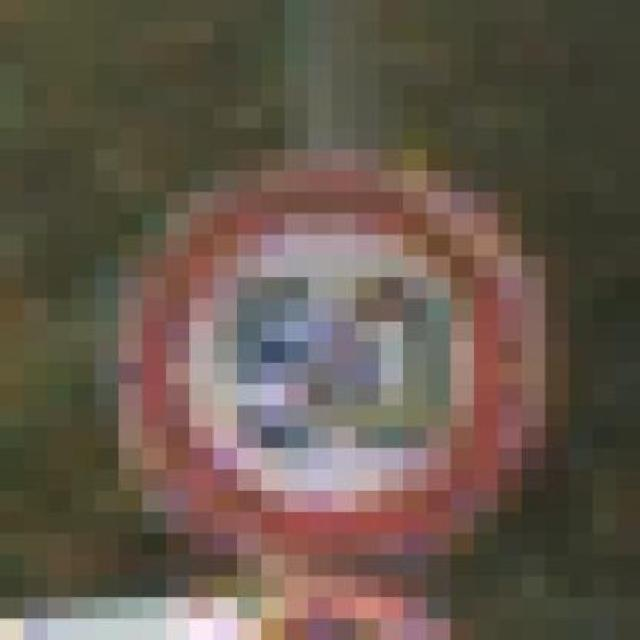forb_speed_over_50: (130, 172, 530, 556)
